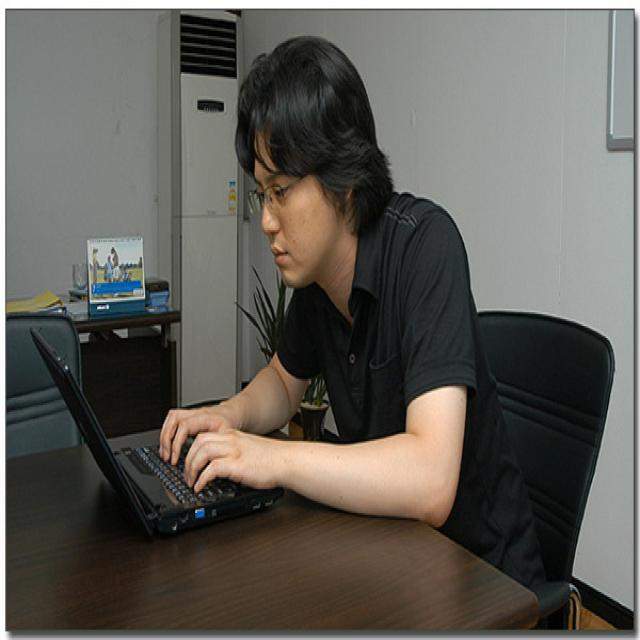notebook-person: (28, 29, 501, 568)
